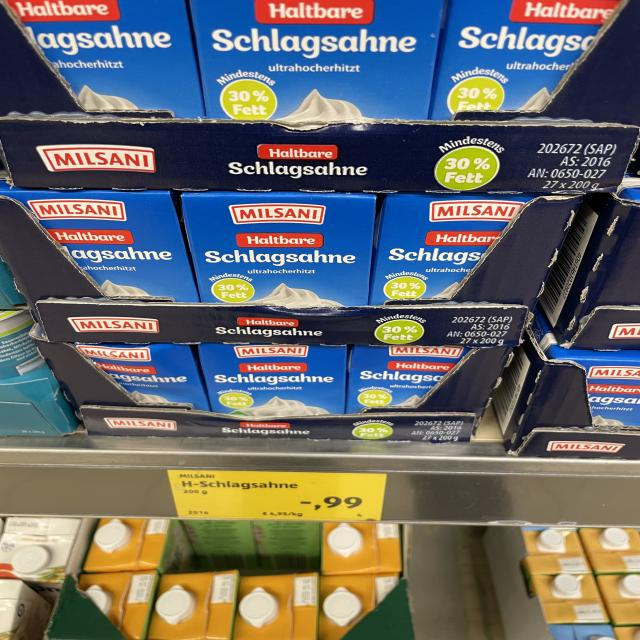Cream: (189, 0, 444, 121), (0, 181, 199, 302), (5, 0, 203, 117), (181, 191, 376, 308), (430, 0, 621, 119), (369, 193, 534, 305), (533, 310, 640, 427), (198, 343, 347, 417), (74, 343, 209, 411), (346, 345, 470, 414)
Milk carton/jug: (0, 517, 95, 605), (147, 571, 239, 640), (83, 519, 192, 574), (232, 573, 319, 640), (78, 570, 159, 640), (318, 574, 399, 640), (526, 573, 613, 623), (321, 523, 402, 576), (521, 530, 595, 580), (580, 529, 640, 576), (595, 575, 640, 627), (345, 559, 346, 560)
